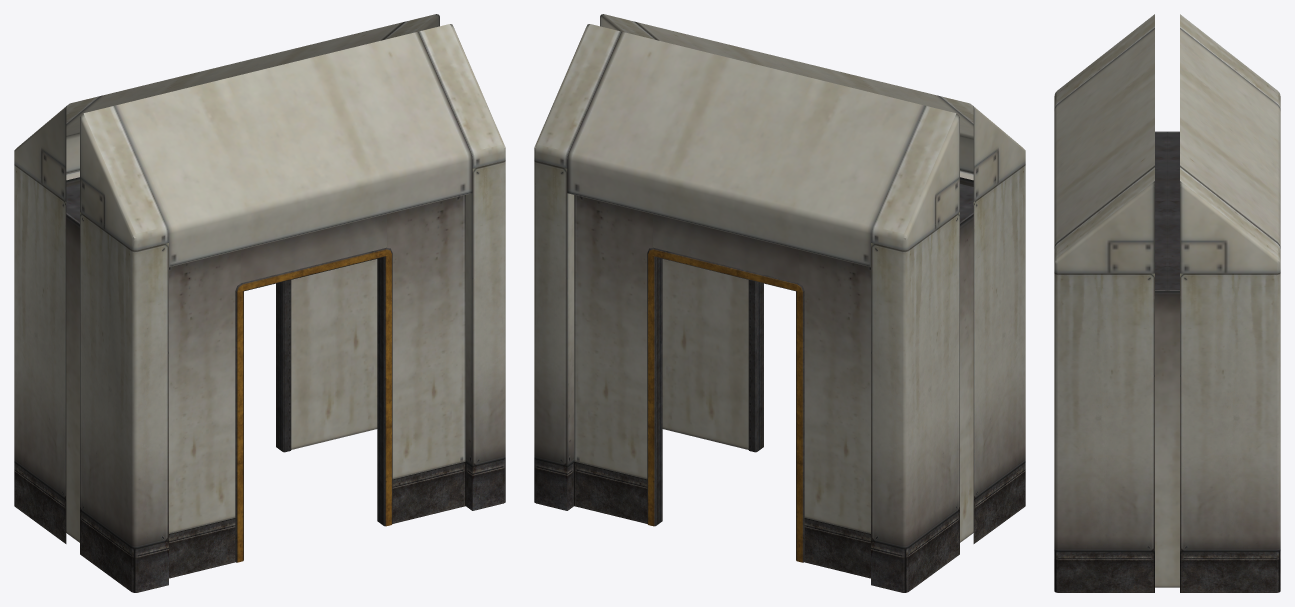
The model's file is lab_airlock.dae.
3 renders of one model, left to right at view 1: azimuth 30°, elevation 25°; view 2: azimuth 150°, elevation 25°; view 3: azimuth 270°, elevation 25°, orthographic. The views are drawn at different scales.
Parts seen in each view (by area): view 1: lab_airlock; view 2: lab_airlock; view 3: lab_airlock.
Boxes of the visible parts, x1=… form: lab_airlock: x1=14, y1=14, x2=505, y2=592; lab_airlock: x1=534, y1=14, x2=1025, y2=592; lab_airlock: x1=1054, y1=14, x2=1280, y2=592.
Bounding box in the file's own units: 4 × 4.5 × 2.25.
